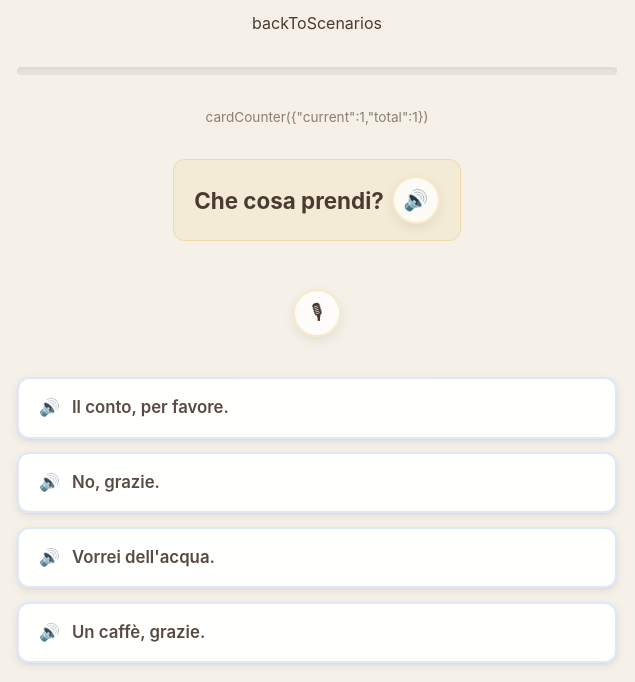
Scenario: QAStudySession › Study again button on scenarioDone screen resets session
This screenshot has width=635, height=682.
Click the button "🔊 Un caffè, grazie." at (139, 632), box top-left (17, 602), bottom-right (617, 663)
Wait 600 ms
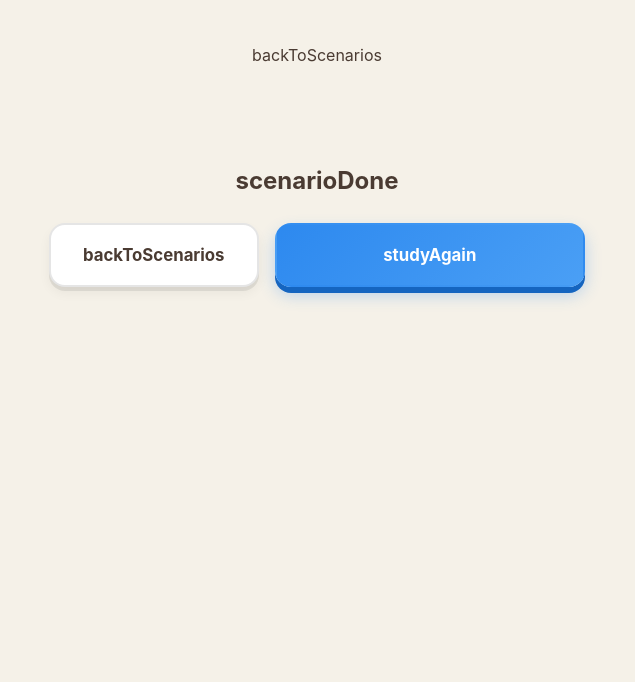
expect the text "scenarioDone" is shown: met, box top-left (235, 166), bottom-right (398, 195)
Click "Study again"
Click the button "studyAgain" at (430, 255), box top-left (274, 223), bottom-right (585, 287)
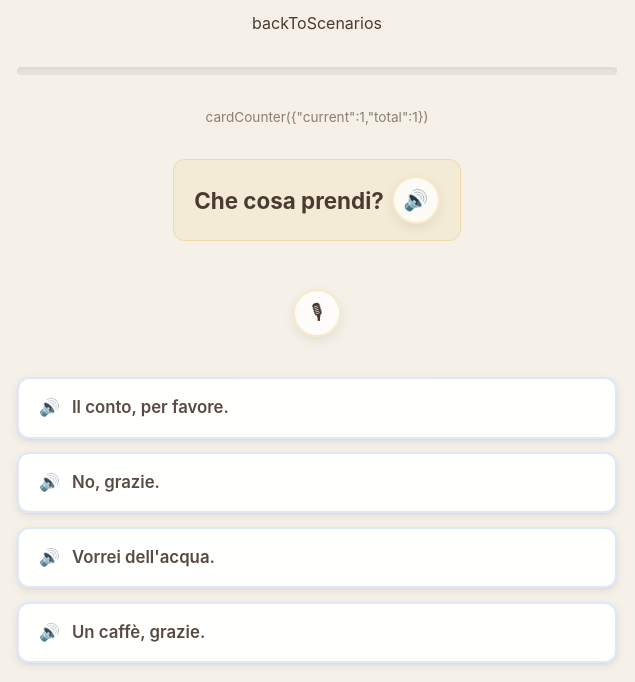
expect the text "Che cosa prendi?" is shown: met, box top-left (194, 184), bottom-right (384, 217)
